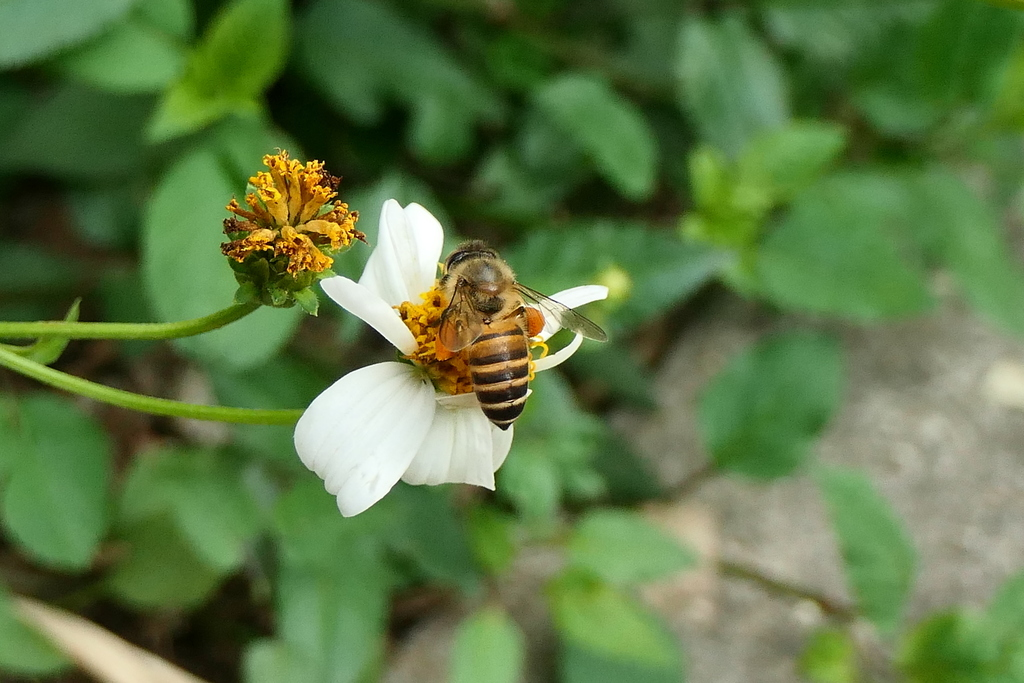not_bumblebee: (417, 238, 609, 435)
